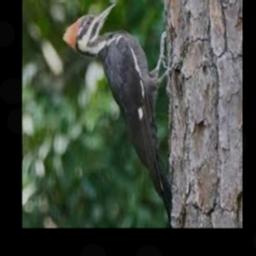Woodpecker: (61, 3, 173, 225)
